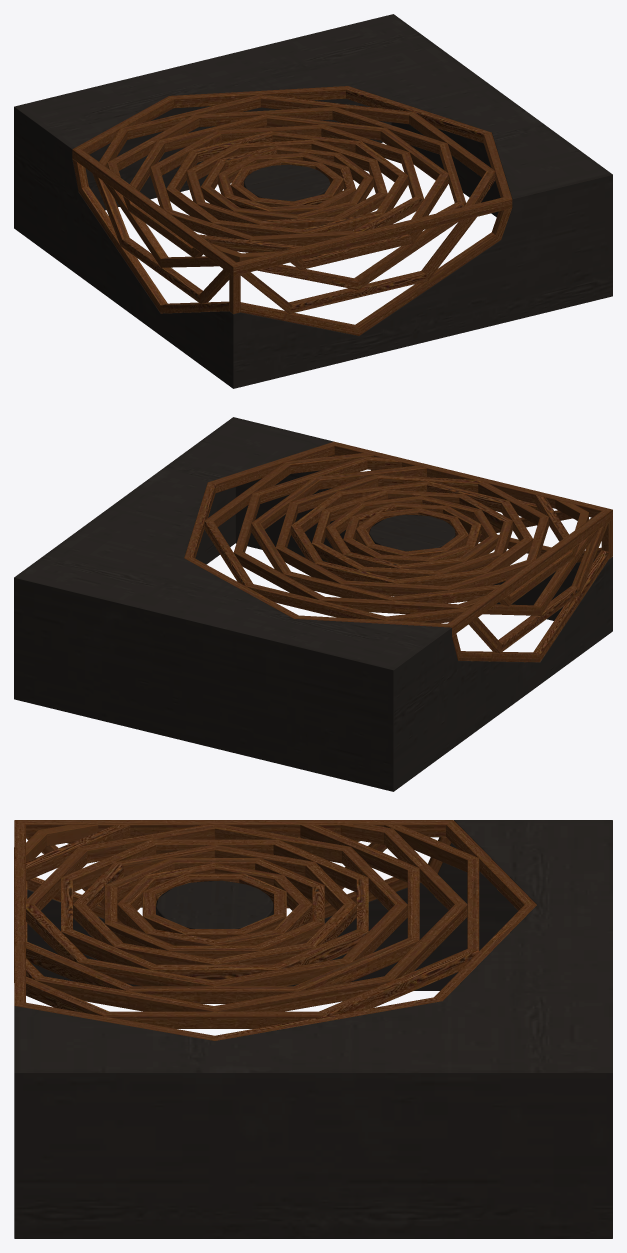
Rendered from modern_coffee_table_02.glb.
3 views of the same model, one above another, from view 1: azimuth 30°, elevation 25°; view 2: azimuth 150°, elevation 25°; view 3: azimuth 270°, elevation 25° (orthographic). The views are drawn at different scales.
Visible parts, largest first — view 1: modern_coffee_table_02; view 2: modern_coffee_table_02; view 3: modern_coffee_table_02.
Part boxes in pixels (box(x1,y1,x2,y2)): modern_coffee_table_02: box(14, 14, 612, 388); modern_coffee_table_02: box(14, 417, 612, 791); modern_coffee_table_02: box(14, 820, 612, 1238).
Bounding box in the file's own units: 1.2 × 0.3692 × 1.2.
2 materials, 2 textured.
